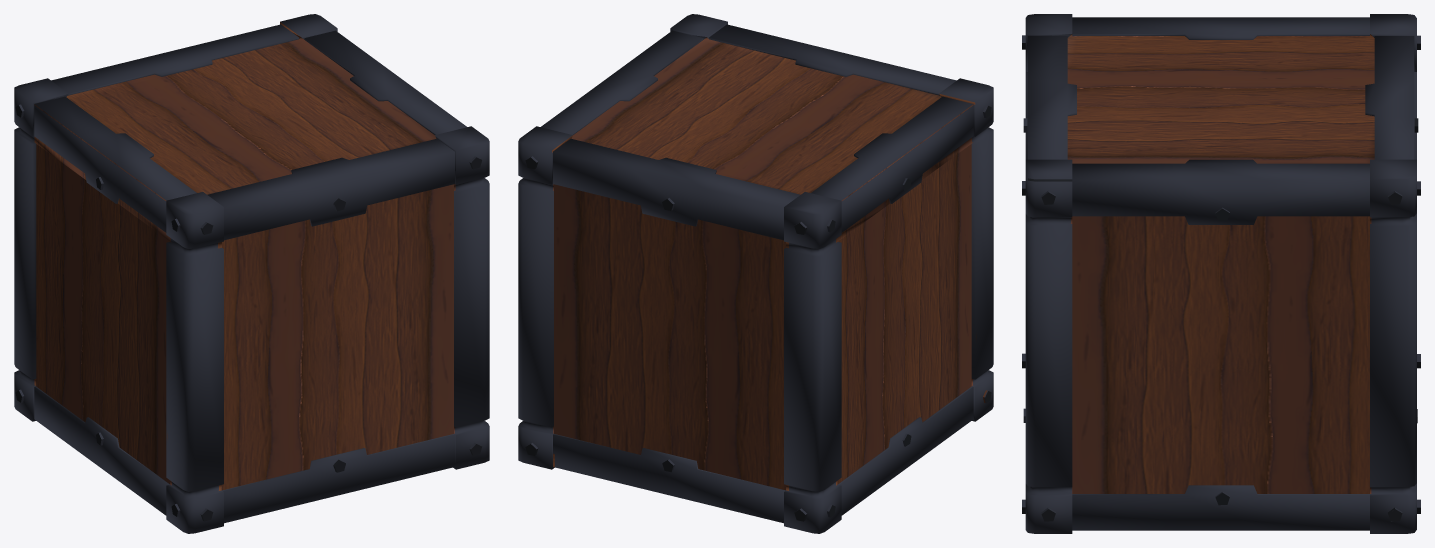
File: Crate001.fbx
The picture shows the model from 3 angles, left to right: view 1: azimuth 30°, elevation 25°; view 2: azimuth 150°, elevation 25°; view 3: azimuth 270°, elevation 25°; orthographic projection. The views are drawn at different scales.
Visible parts, largest first — view 1: Box001; view 2: Box001; view 3: Box001.
Boxes of the visible parts, x1=… form: Box001: x1=14, y1=14, x2=489, y2=533; Box001: x1=518, y1=14, x2=993, y2=533; Box001: x1=1022, y1=14, x2=1420, y2=533.
Size of the model in its own units: 20.88 by 20.5 by 20.89.
